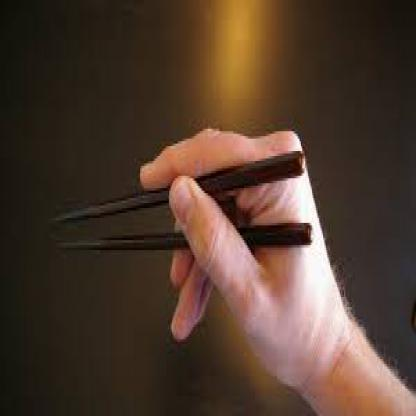chopstick: (56, 151, 306, 218), (49, 225, 314, 250)
